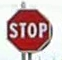stop: (6, 8, 51, 51)
